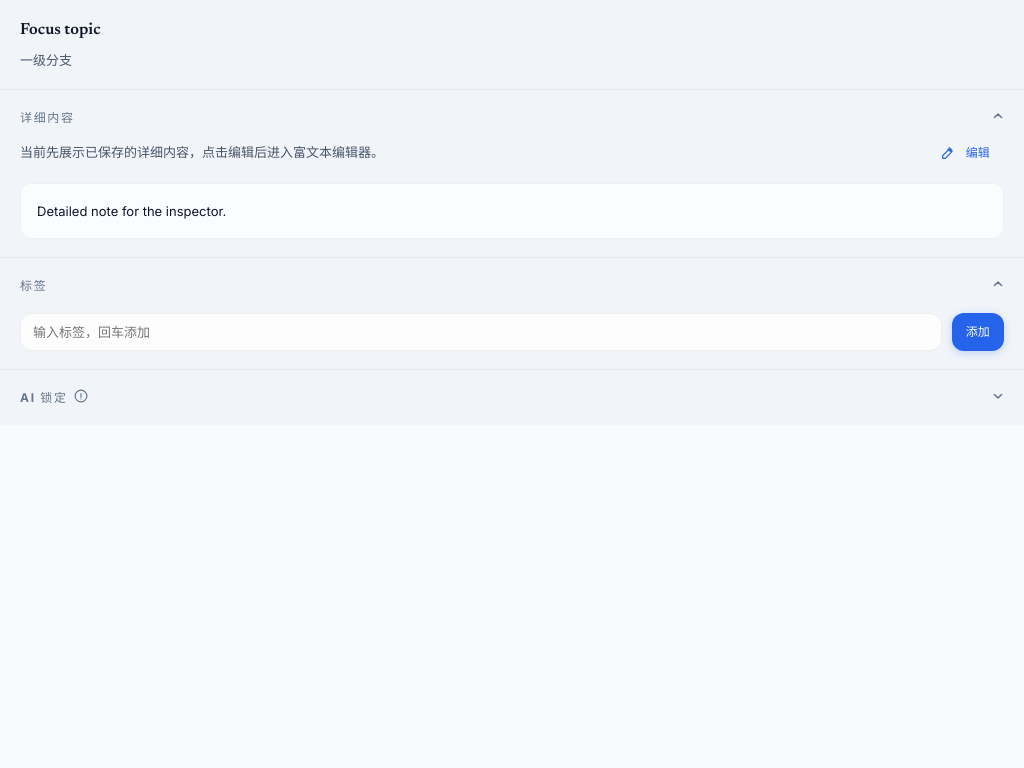
Test case: PropertiesPanel › shows note content in display mode by default and enters editor only after clicking edit
Expected: the text "Detailed note for the inspector." is shown, [37,203,226,219]
Click the button "编辑" at (965, 153), box [926,135,1004,171]
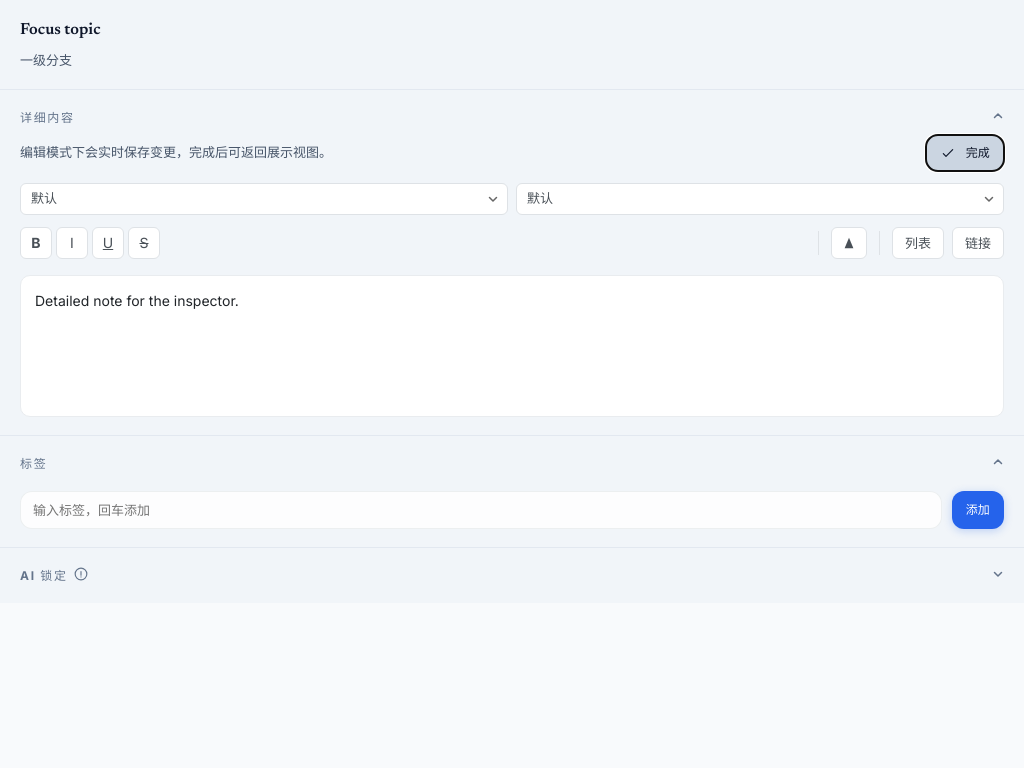
Expected: the field named "详细内容富文本编辑器" is shown, [35,292,239,309]
Expected: the button "完成" is shown, [926,135,1004,171]
